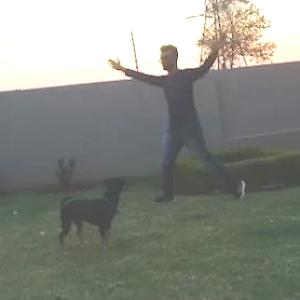takeoff: (106, 32, 234, 196)
